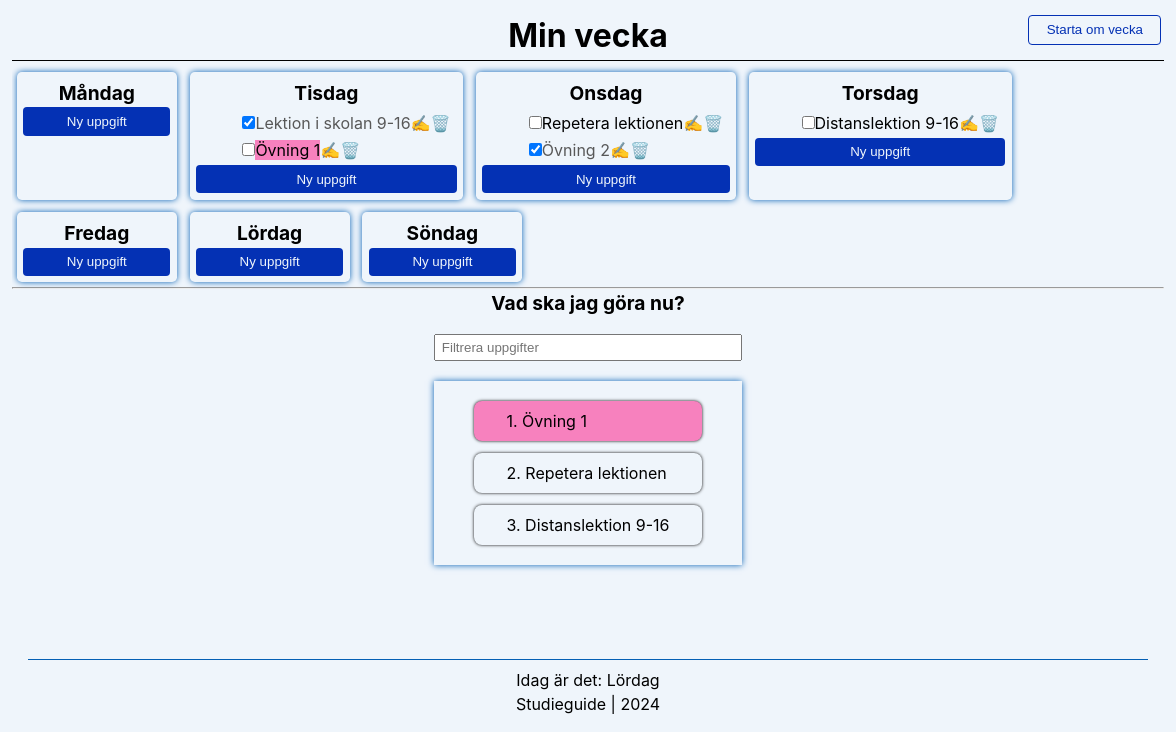
Test: Todo Application - Prioriteringslista › filtrerar todo items baserat på sökning
Expected: the element that starts with "Vad ska jag göra nu?" is shown, [435,291,742,565]
Type "Övning" into the search field with test id "search-input".
click(589, 348); type("Övning")  # box [435,334,742,361]
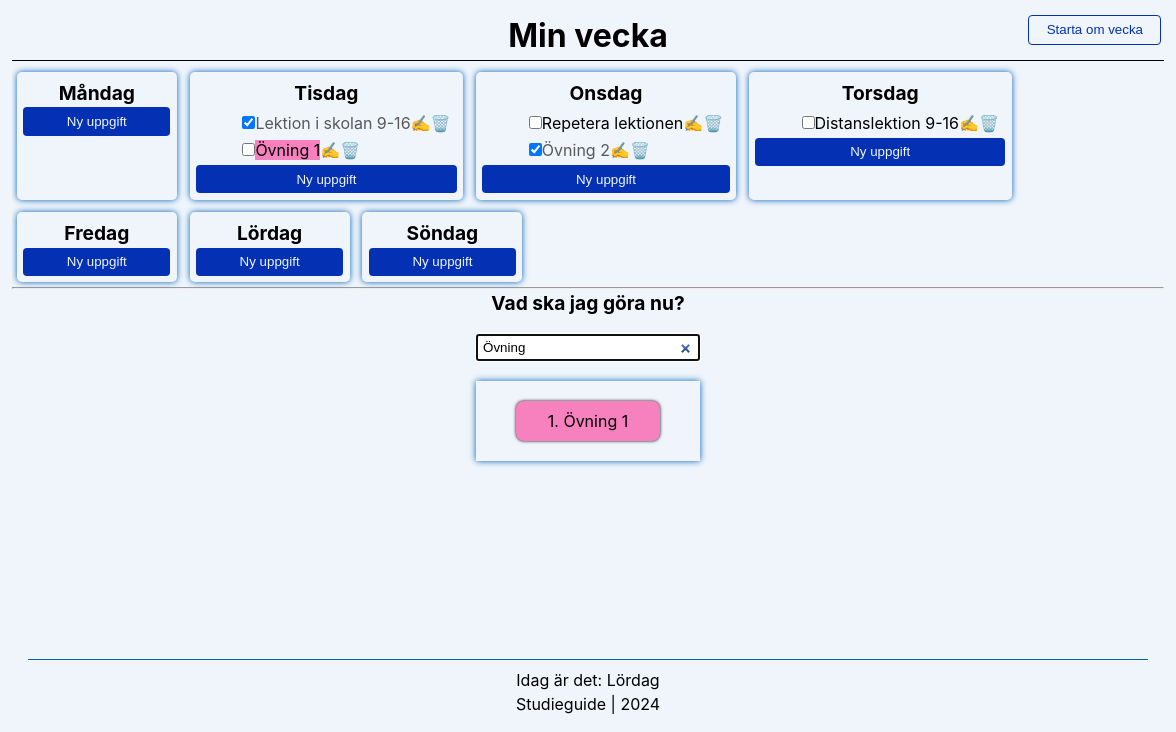
Expected: the text with test id "prio-item" shows "Övning", [563,411,628,431]
Expected: the number of elements with test id "prio-item" is more than 0, [516,401,661,441]
